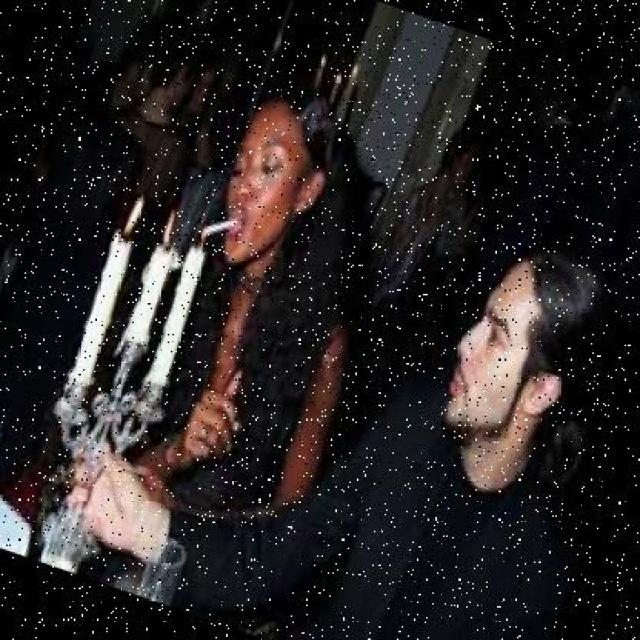fire: (108, 178, 154, 240), (155, 202, 188, 249)
